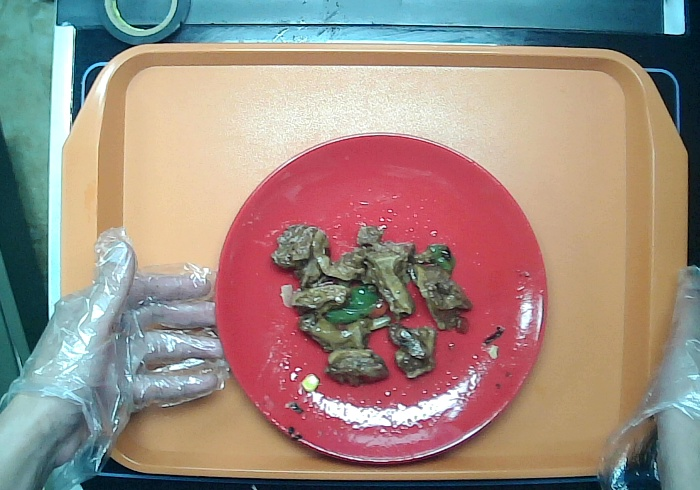HZYJPL-Hong_Se_Yuan_Pan: (205, 126, 553, 469)
